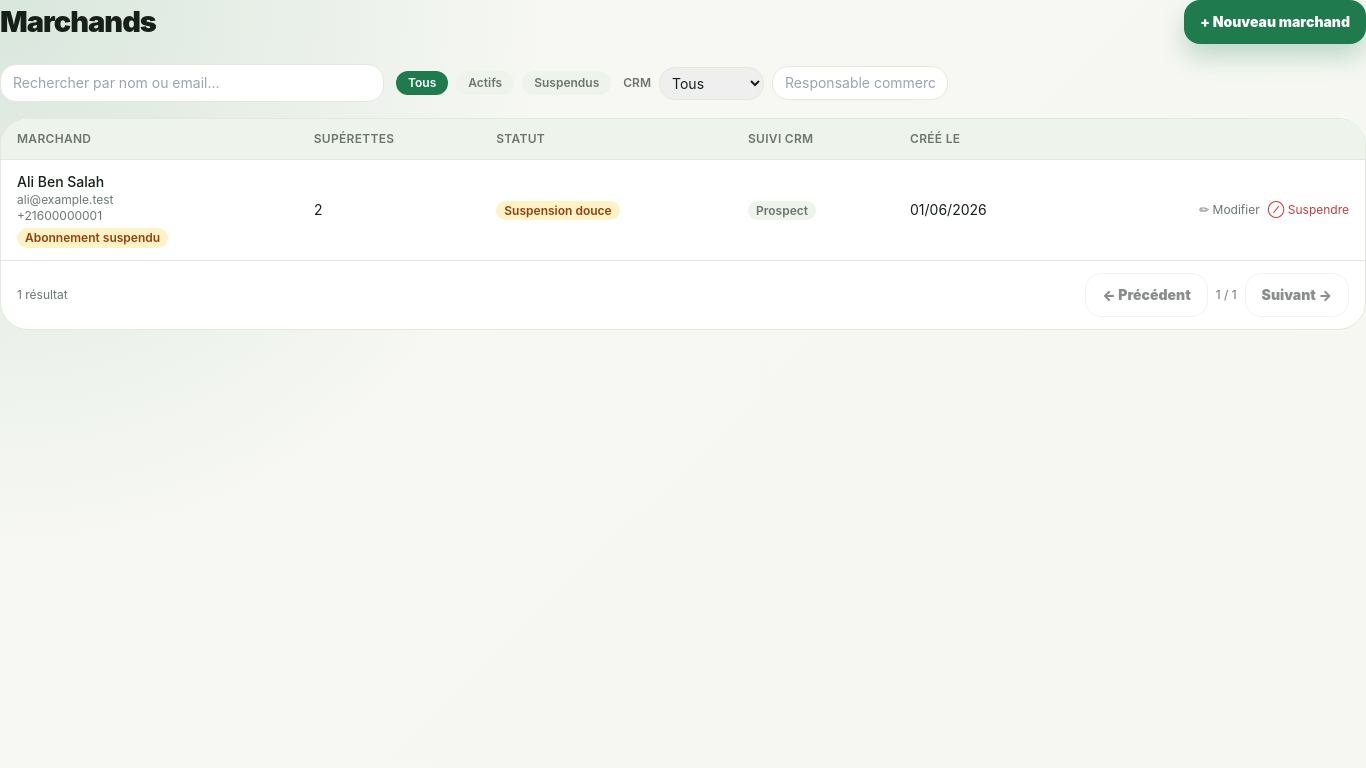
Test: MarchandsPage › affiche le statut de suspension abonnement dans la fiche marchand admin
Expected: the text "Abonnement suspendu" is shown, [17,228,168,248]
Click the button "✏ Modifier" at (1229, 210), box [1199,202,1260,218]
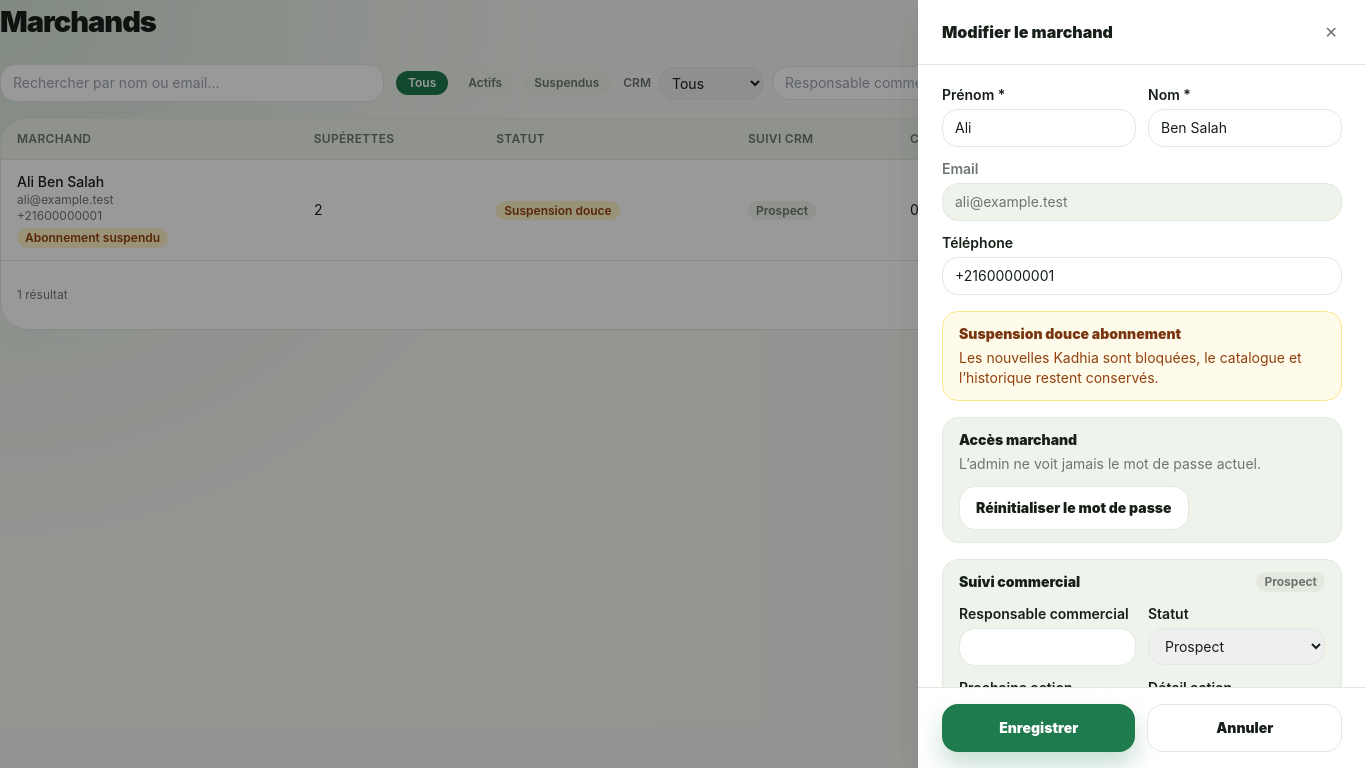
Now the heading "Suspension douce abonnement" is shown, box [959,325,1181,342]
Now the text "Les nouvelles Kadhia sont bloquées, le catalogue et l’historique restent conservés." is shown, box [959,349,1302,386]
